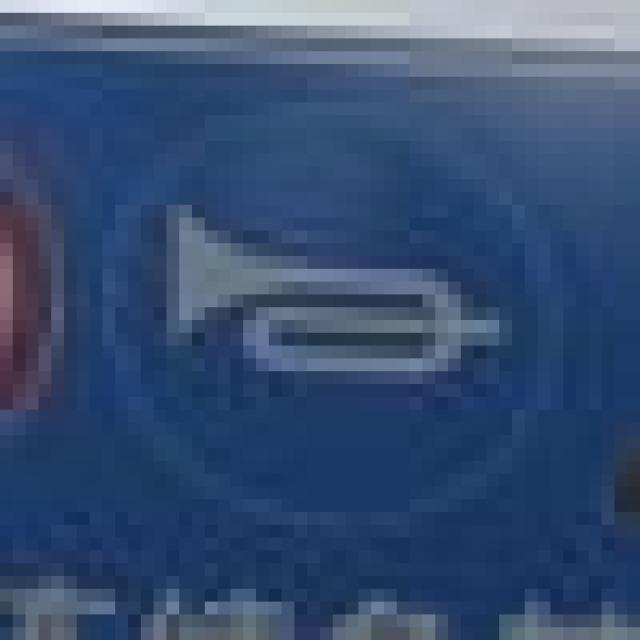COMPULSARY_SOUND_HORN: (100, 106, 553, 526)
